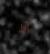one: (19, 20, 24, 34), (25, 19, 30, 33)
